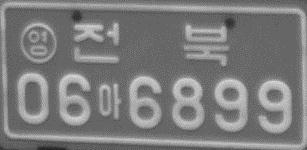0: (17, 71, 51, 125)
6: (126, 75, 162, 130), (57, 73, 91, 126)
8: (170, 76, 205, 131)
9: (257, 78, 293, 135), (213, 78, 248, 133)
아: (97, 84, 121, 121)
영: (20, 21, 58, 65)
전북_D: (72, 22, 228, 66)
